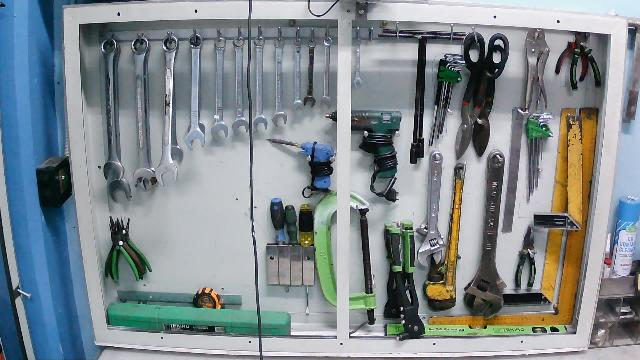tang_rivet: (384, 221, 428, 343)
